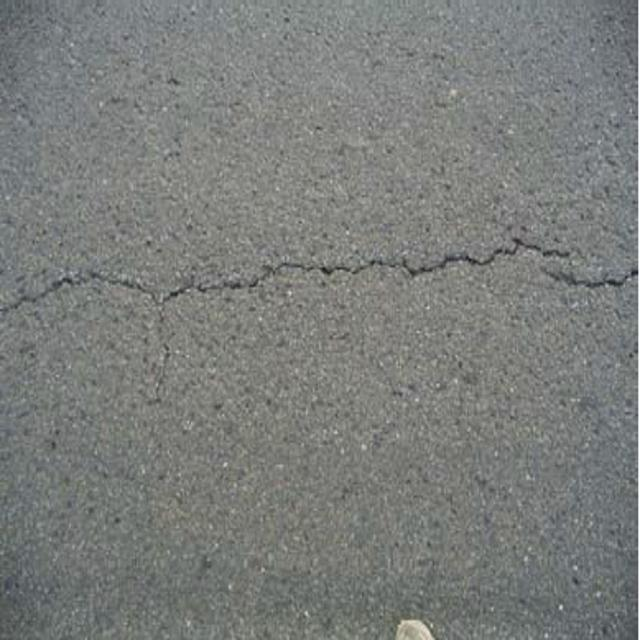crack: (0, 230, 640, 350)
